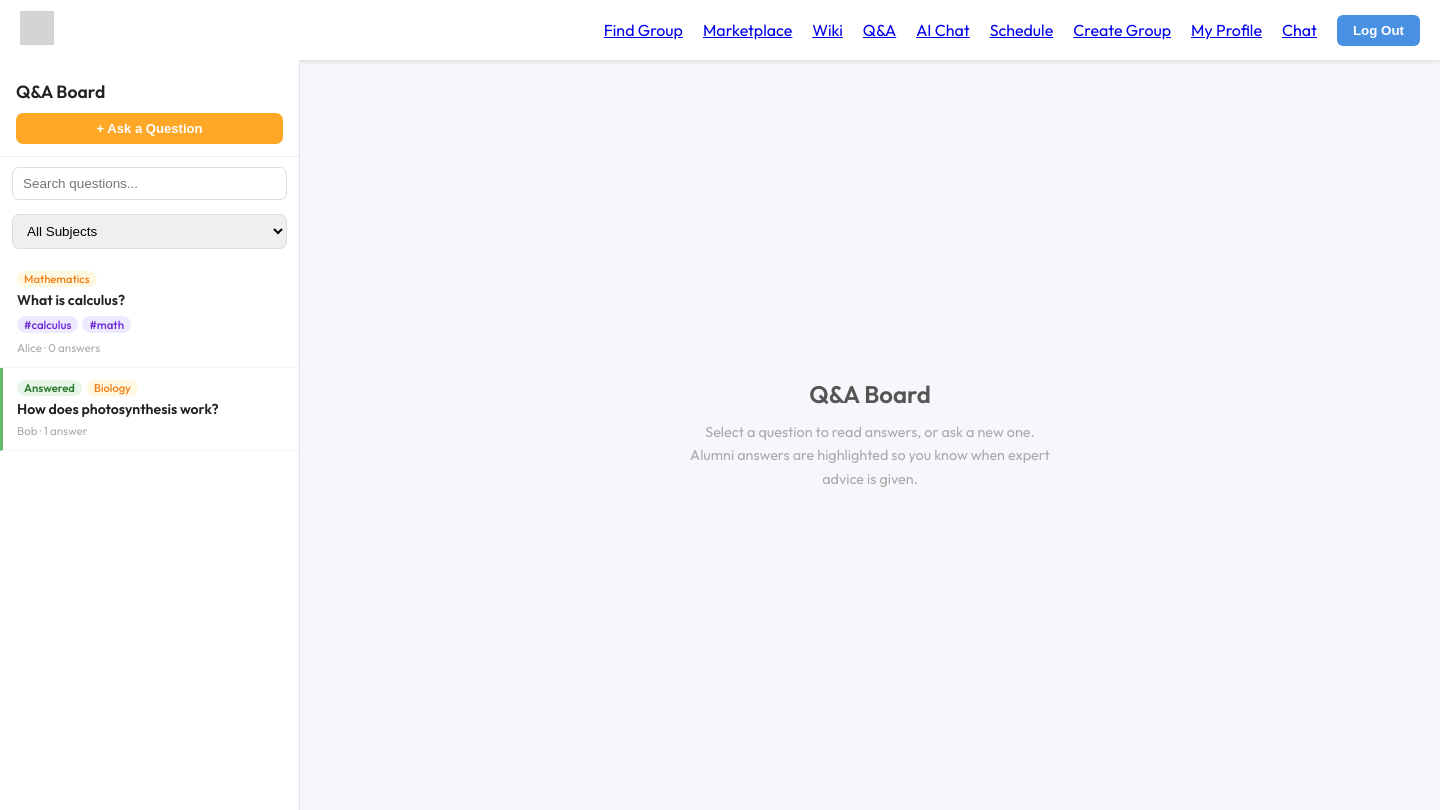
QABoard page › ask form toggles open when button clicked
The image size is (1440, 810).
Step 1. Click the button "+ Ask a Question" → (150, 128), box [16, 113, 283, 144]
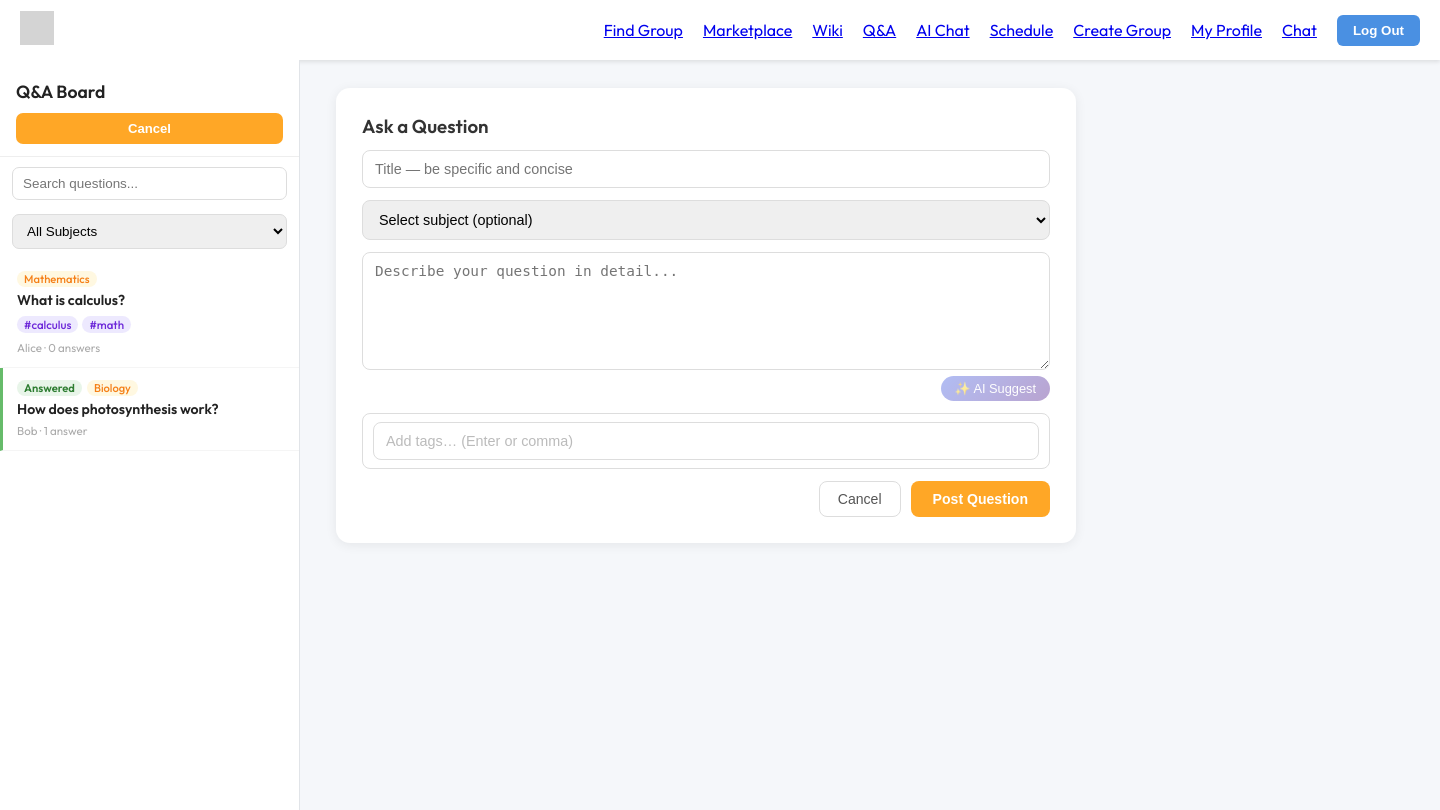
Expected: the field with placeholder "Title — be specific and concise" is shown, [362, 150, 1050, 188]
Expected: the text box with placeholder "Describe your question in detail..." is shown, [362, 252, 1050, 370]
